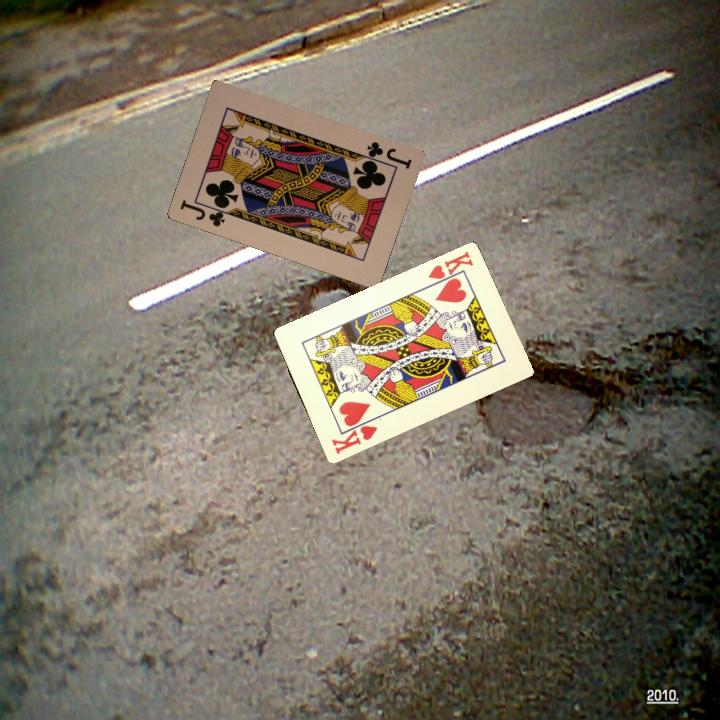Jc: (358, 137, 414, 172), (176, 195, 232, 229)
Kh: (327, 414, 380, 457), (424, 247, 476, 289)
